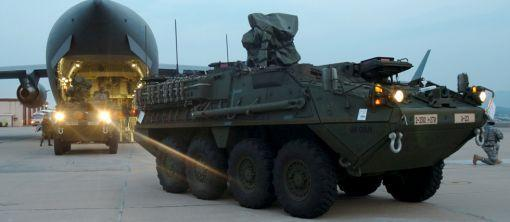MIL_IFV: (133, 14, 488, 218)
